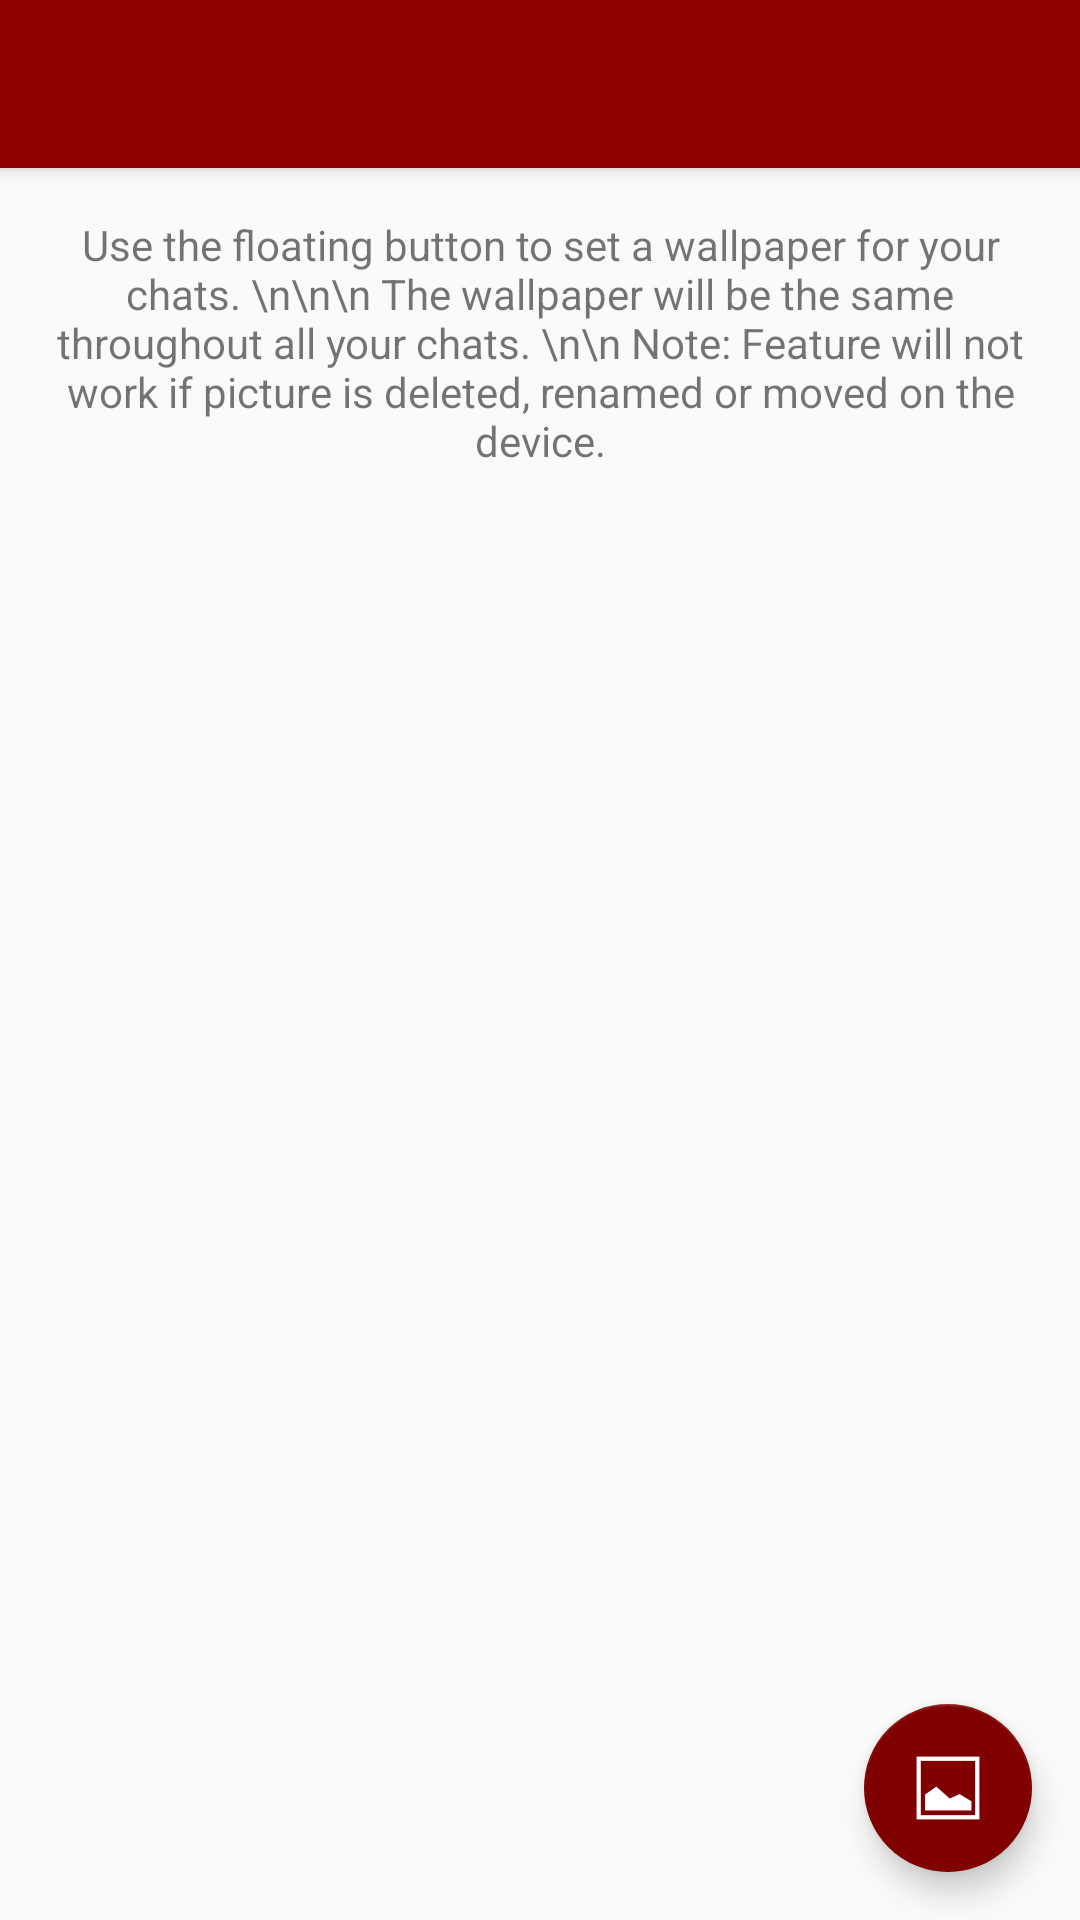

Icon click points for this 1080 × 1920 phone screenshot, format [x,y]:
backwallpaper: [948,1788]
